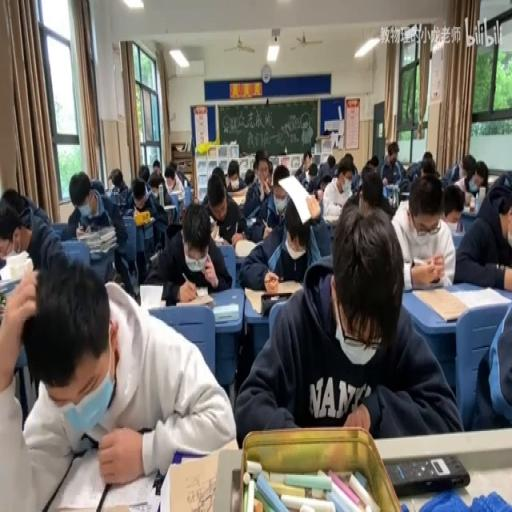calculator: (163, 441, 239, 512), (243, 282, 301, 314), (451, 284, 508, 310), (0, 278, 23, 316), (174, 288, 216, 306), (78, 223, 114, 242), (137, 282, 163, 308), (213, 302, 239, 324), (234, 238, 256, 256), (410, 278, 442, 288), (228, 188, 246, 205), (134, 213, 154, 226), (323, 212, 341, 225), (89, 246, 104, 259), (445, 220, 458, 234), (210, 222, 219, 240), (382, 184, 398, 194), (149, 250, 158, 266), (398, 189, 410, 199), (246, 214, 257, 224), (213, 236, 223, 245), (162, 204, 176, 210)
paper: (235, 200, 456, 444), (13, 257, 231, 502), (67, 171, 137, 294), (154, 200, 230, 303), (290, 179, 332, 266), (0, 188, 40, 264), (244, 160, 285, 234), (355, 165, 394, 219), (453, 156, 485, 205), (380, 141, 406, 186), (146, 168, 174, 209), (223, 158, 245, 192), (315, 154, 337, 188), (294, 148, 314, 183), (108, 166, 128, 196), (131, 179, 148, 211), (169, 158, 185, 186), (404, 160, 422, 184), (336, 154, 354, 175), (252, 149, 266, 175), (420, 155, 437, 176), (210, 166, 226, 185), (443, 203, 459, 219), (138, 164, 150, 184), (350, 170, 360, 194), (89, 178, 104, 193), (449, 164, 459, 184), (244, 168, 254, 185), (265, 158, 272, 180), (368, 155, 378, 168), (179, 205, 186, 222), (151, 158, 160, 171), (165, 175, 174, 188)
person: (385, 452, 470, 496)
